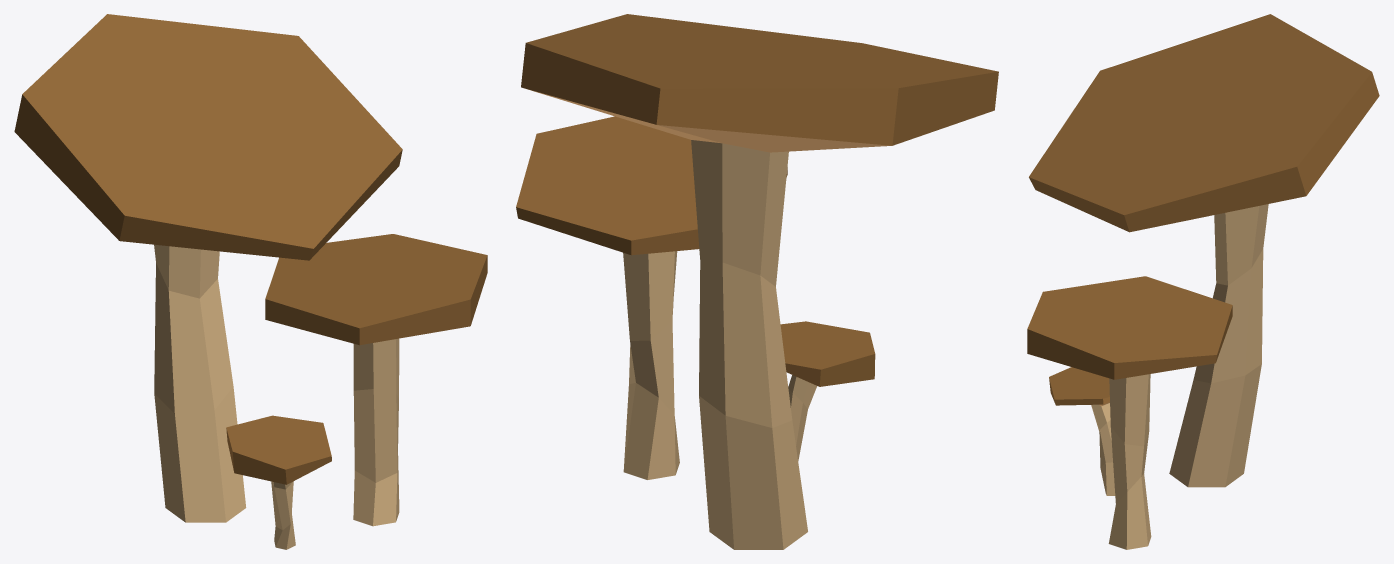
The model's file is seta_4.fbx.
3 views of the same model, side by side, from view 1: azimuth 30°, elevation 25°; view 2: azimuth 150°, elevation 25°; view 3: azimuth 270°, elevation 25° (orthographic). The views are drawn at different scales.
Visible parts, largest first — view 1: euphorbia; view 2: euphorbia; view 3: euphorbia.
Part boxes in pixels (<box>): euphorbia: <box>14,14,487,549</box>; euphorbia: <box>516,14,998,549</box>; euphorbia: <box>1027,14,1379,549</box>.
Bounding box in the file's own units: 27.37 × 30.09 × 23.65.
